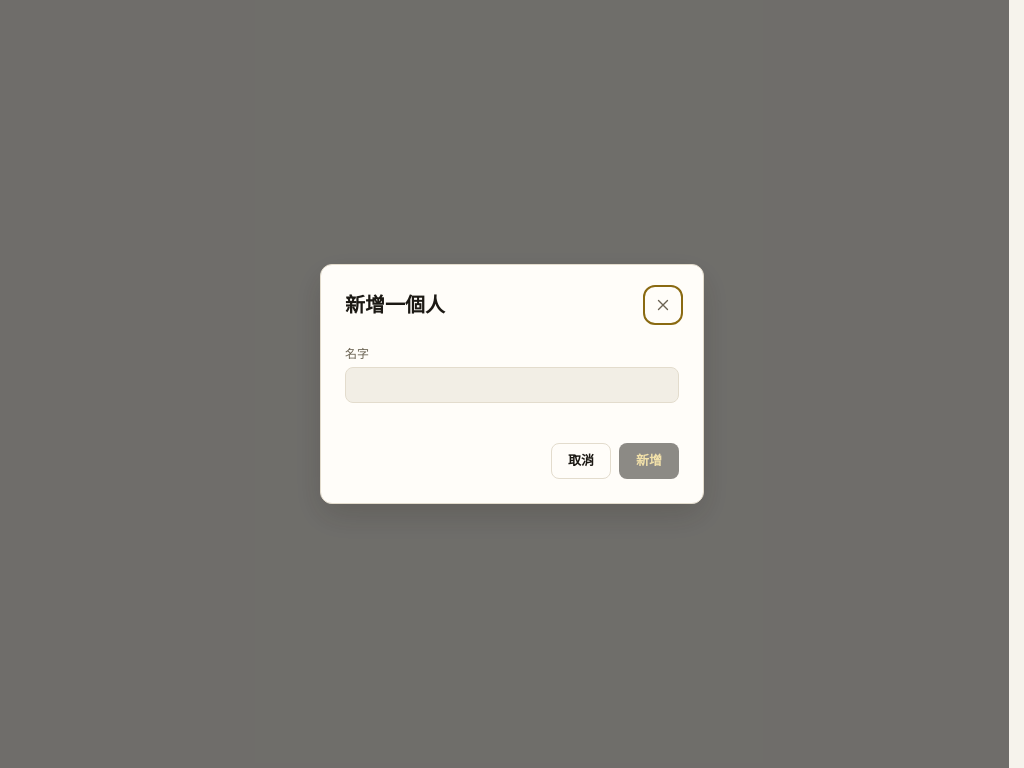
Test: AddCounterpartyDialog › keeps the dialog open and shows the localized duplicate-name error on 409
The width and height of the screenshot is (1024, 768).
Step 1. Type "小華" into the field labelled "名字" → point(512, 385), box x1=345 y1=367 x2=679 y2=403
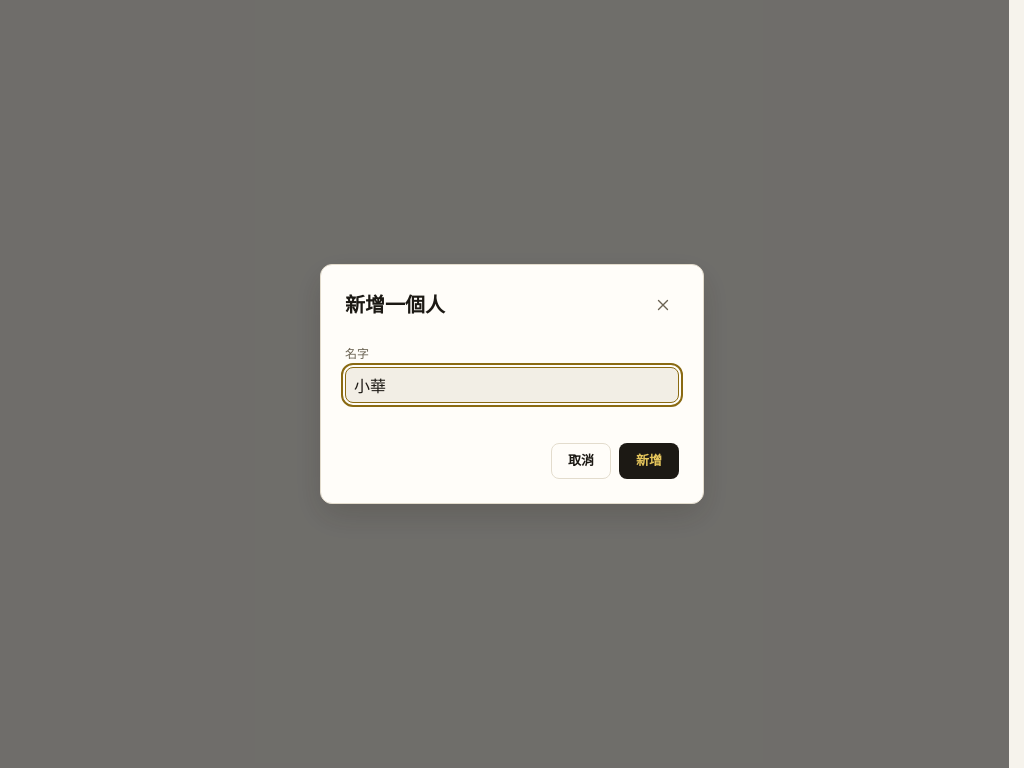
Step 2. Click the button "新增" → point(649, 461), box x1=619 y1=443 x2=679 y2=479
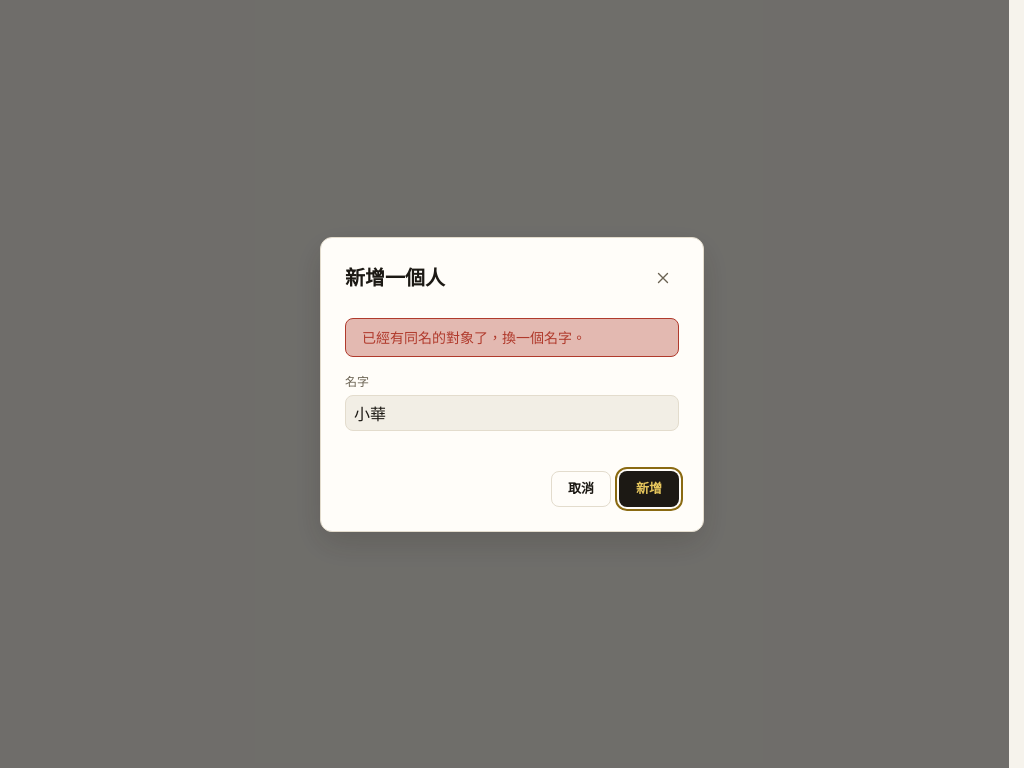
Now the message reads "已經有同名的對象了，換一個名字。", box x1=362 y1=328 x2=586 y2=346
